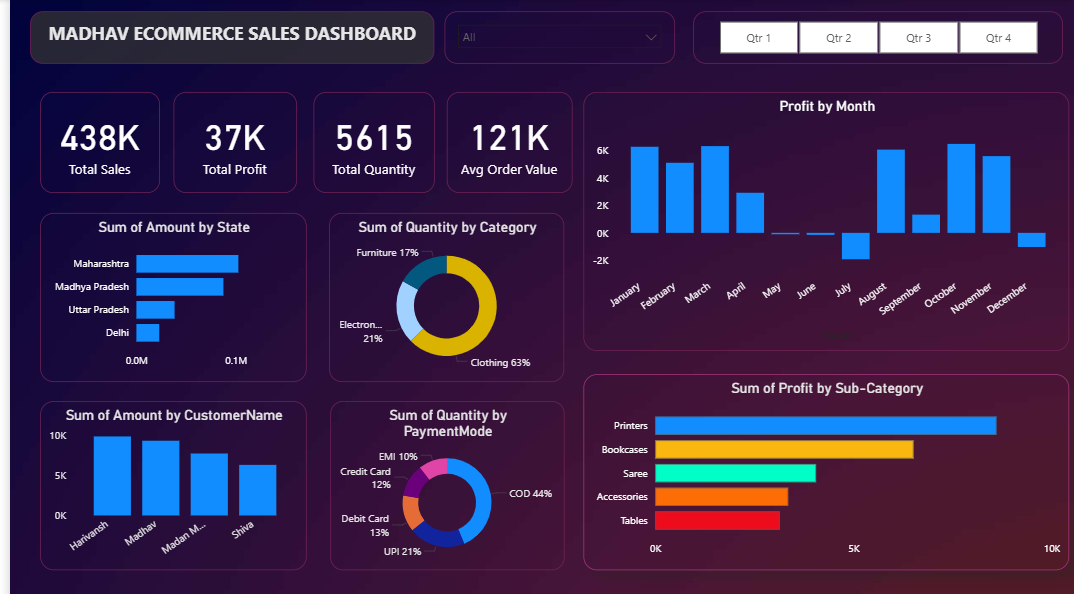

What the dashboard file says about the page in this screenshot:
{"tool":"powerbi","page":{"name":"Page 1","canvas":[1280,720],"ordinal":0},"visuals":[{"type":"textbox","box":[24,14.7,482.3,62.8],"z":0},{"type":"barChart","fields":{"Category":["Details.Sub-Category"],"Y":["Sum(Details.Profit)"]},"box":[684.1,447.6,579.9,233.8],"z":1000},{"type":"barChart","fields":{"Category":["Orders.State"],"Y":["Sum(Details.Amount)"]},"box":[36.1,255.2,318,201.7],"z":2000},{"type":"columnChart","fields":{"Y":["Sum(Details.Amount)"],"Category":["Orders.CustomerName"]},"box":[36.1,479.7,318,201.7],"z":3000},{"type":"donutChart","fields":{"Y":["Sum(Details.Quantity)"],"Category":["Details.Category"]},"box":[380.8,255.2,280.6,201.7],"z":4000},{"type":"donutChart","fields":{"Y":["Sum(Details.Quantity)"],"Category":["Details.PaymentMode"]},"box":[382.1,479.7,279.2,201.7],"z":5000},{"type":"card","fields":{"Values":["Sum(Details.Amount)"]},"box":[36.1,110.9,143,120.2],"z":6000},{"type":"card","fields":{"Values":["Sum(Details.Profit)"]},"box":[195.1,110.9,147,120.2],"z":7000},{"type":"card","fields":{"Values":["Sum(Details.Quantity)"]},"box":[362.1,110.9,144.3,120.2],"z":8000},{"type":"card","fields":{"Values":["Sum(Details.AOV)"]},"box":[521.1,110.9,149.6,120.2],"z":9000},{"type":"slicer","fields":{"Values":["Orders.Order Date.Variation.Date Hierarchy.Quarter"]},"box":[815,14.7,440.9,62.8],"z":10000},{"type":"slicer","fields":{"Values":["Orders.State"]},"box":[518.4,14.7,275.2,62.8],"z":11000},{"type":"columnChart","title":"Profit by Month","fields":{"Y":["Sum(Details.Profit)"],"Category":["Orders.Order Date.Variation.Date Hierarchy.Month"]},"box":[684.1,110.9,579.9,308.6],"z":12000}]}

Visuals, with their boxes in screenshot pixels (x1, y1, x2, y2), scaled from the page's 1280x720 canvas onto the 1074x594 screenshot:
textbox: locate(20, 12, 425, 64)
barChart - Details.Sub-Category x Sum(Details.Profit): locate(574, 369, 1061, 562)
barChart - Orders.State x Sum(Details.Amount): locate(30, 211, 297, 377)
columnChart - Sum(Details.Amount) x Orders.CustomerName: locate(30, 396, 297, 562)
donutChart - Sum(Details.Quantity) x Details.Category: locate(320, 211, 555, 377)
donutChart - Sum(Details.Quantity) x Details.PaymentMode: locate(321, 396, 555, 562)
card - Sum(Details.Amount): locate(30, 91, 150, 191)
card - Sum(Details.Profit): locate(164, 91, 287, 191)
card - Sum(Details.Quantity): locate(304, 91, 425, 191)
card - Sum(Details.AOV): locate(437, 91, 563, 191)
slicer - Orders.Order Date.Variation.Date Hierarchy.Quarter: locate(684, 12, 1054, 64)
slicer - Orders.State: locate(435, 12, 666, 64)
"Profit by Month" columnChart: locate(574, 91, 1061, 346)
